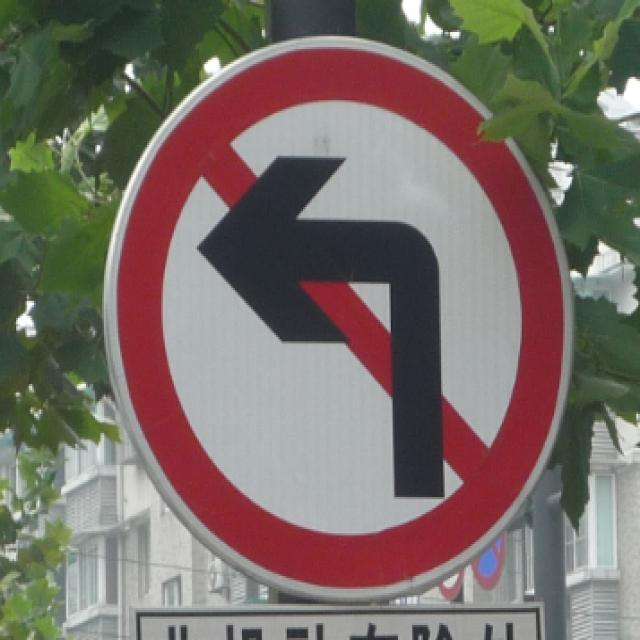Not that Direction: (92, 34, 582, 596)
